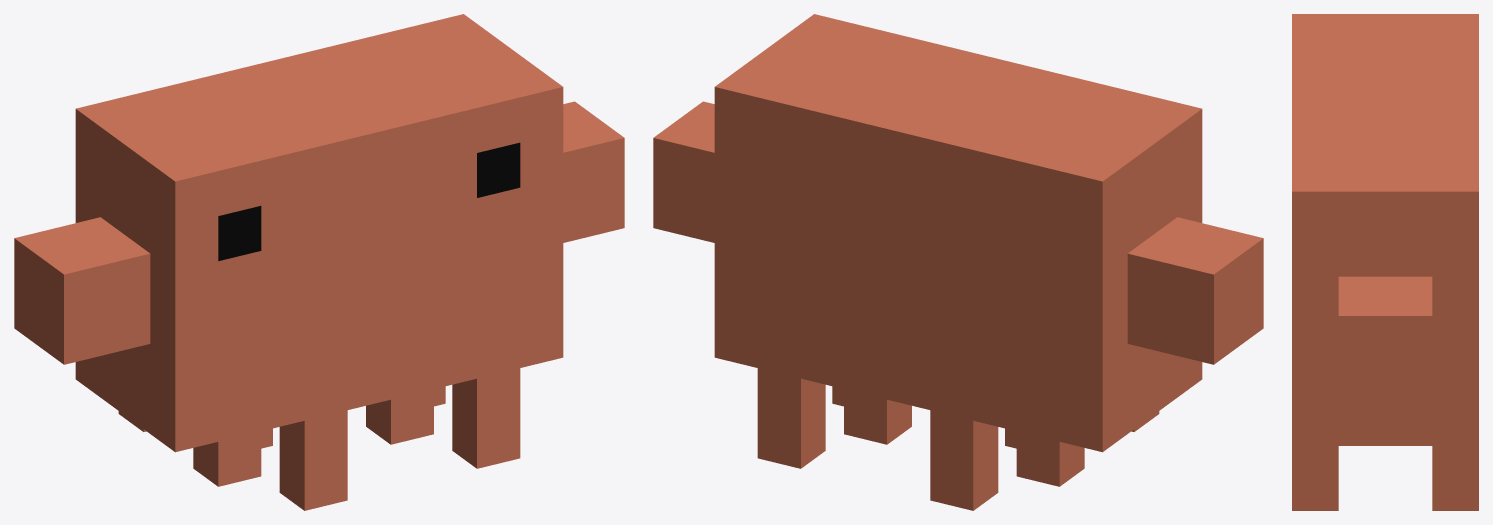
File: crab_0000.obj
3 views of the same model, side by side, from view 1: azimuth 30°, elevation 25°; view 2: azimuth 150°, elevation 25°; view 3: azimuth 270°, elevation 25° (orthographic). The views are drawn at different scales.
Visible parts, largest first — view 1: Crab, Eye; view 2: Crab; view 3: Crab.
Boxes of the visible parts, left/top/right/bottom form: Crab: left=14, top=14, right=624, bottom=510; Eye: left=218, top=142, right=520, bottom=261; Crab: left=653, top=14, right=1263, bottom=510; Crab: left=1292, top=14, right=1478, bottom=510.
Size of the model in its own units: 13 by 8 by 4.
